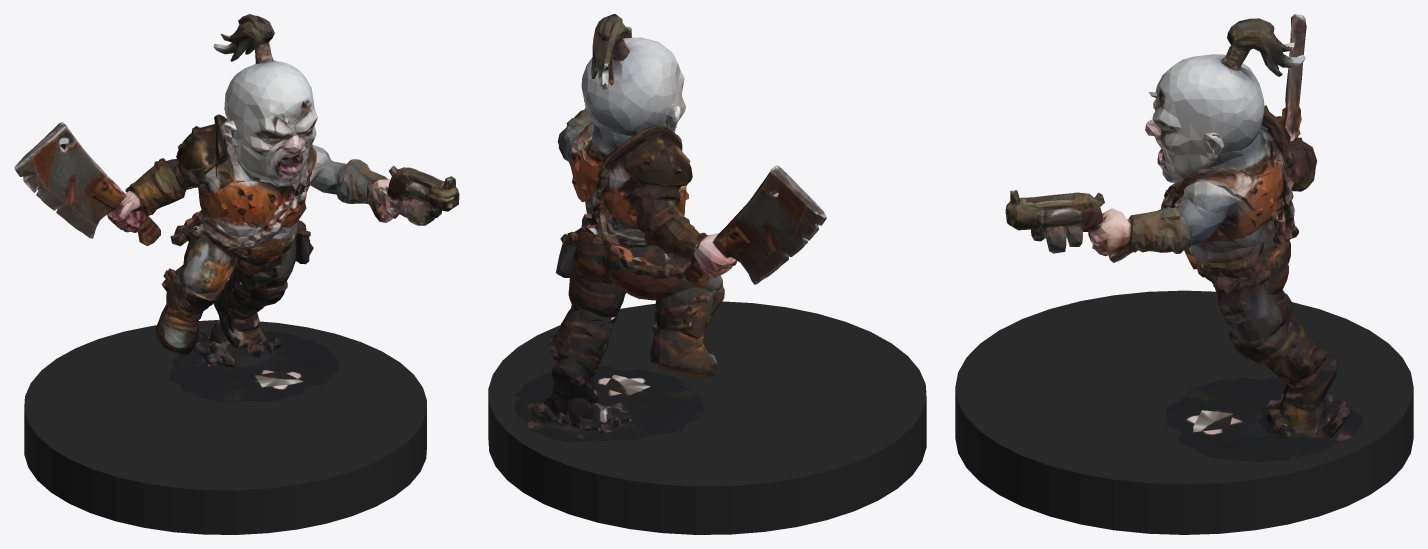
The model's file is goliath-bully-brute-cleaver-b.glb.
3 views of the same model, side by side, from view 1: azimuth 30°, elevation 25°; view 2: azimuth 150°, elevation 25°; view 3: azimuth 270°, elevation 25° (orthographic). The views are drawn at different scales.
Parts seen in each view (by area): view 1: base, figure; view 2: base, figure; view 3: base, figure.
Part boxes in pixels (x1,y1,x2,y2): base: (24, 320, 426, 534); figure: (14, 14, 459, 401); base: (488, 301, 926, 534); figure: (515, 14, 826, 442); base: (955, 290, 1413, 534); figure: (1005, 14, 1363, 461).
Bounding box in the file's own units: 0.9843 × 1.07 × 0.9843.
Materials: 2 (1 with a texture image).
